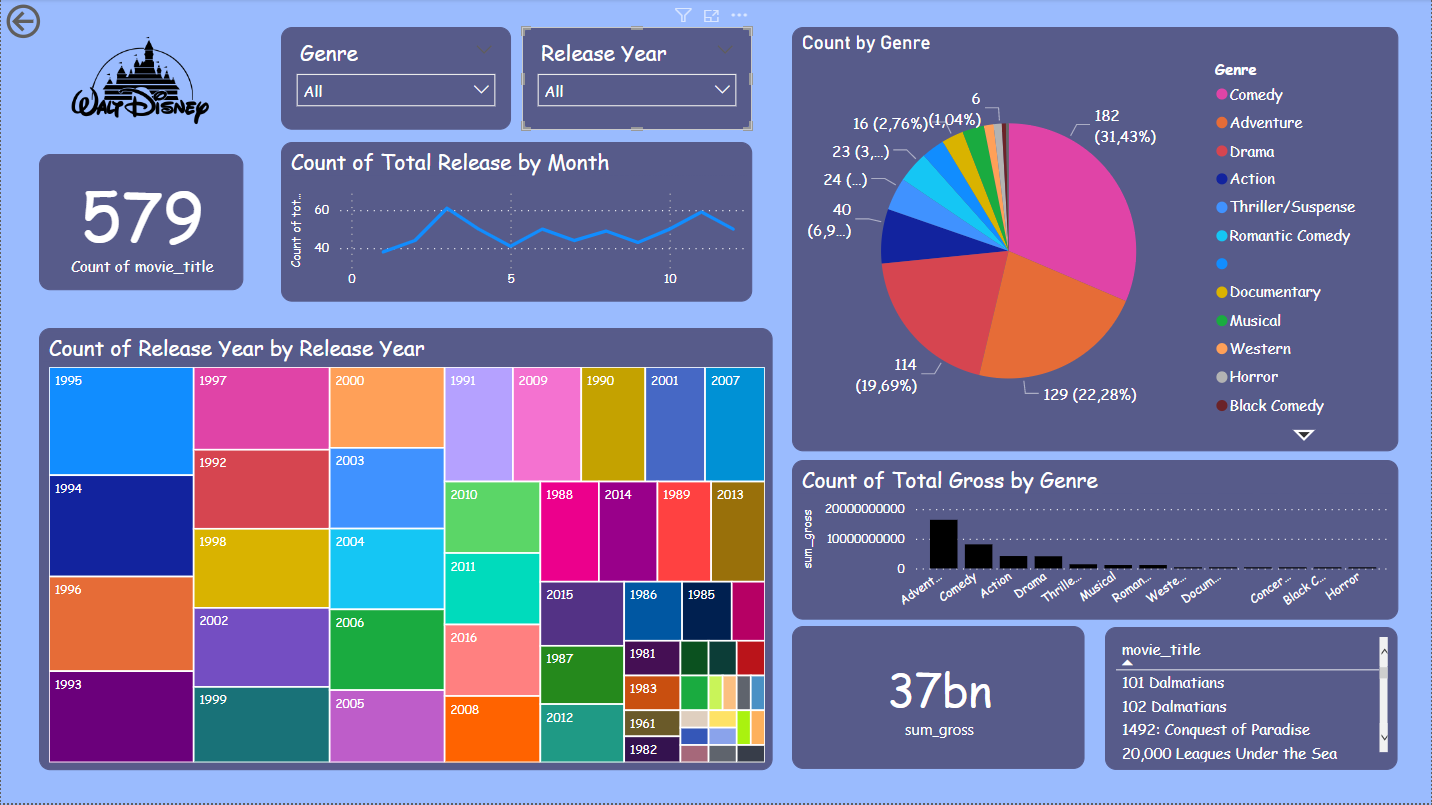

What the dashboard file says about the page in this screenshot:
{"tool":"powerbi","page":{"name":"Disney","canvas":[1280,720],"ordinal":0},"visuals":[{"type":"pieChart","title":"Count by Genre","fields":{"Category":["df.genre"],"Y":["CountNonNull(df.genre)"]},"box":[708.4,25.1,542.7,379.7],"z":0},{"type":"slicer","title":"Genre","fields":{"Values":["df.genre"]},"box":[250.7,25.1,206,92.2],"z":2},{"type":"columnChart","title":"Count of Total Gross by Genre","fields":{"Y":["df.sum"],"Category":["df.genre"]},"box":[708.4,412.8,542.7,143.3],"z":4},{"type":"slicer","fields":{"Values":["df.release_year"]},"box":[466.6,25.1,206,92.2],"z":7},{"type":"image","box":[36.7,27.8,175.5,89.6],"z":9},{"type":"treemap","title":"Count of Release Year by Release Year","fields":{"Group":["df.release_year"],"Values":["CountNonNull(df.release_year)"]},"box":[34,294.6,657.3,395.8],"z":10},{"type":"card","fields":{"Values":["CountNonNull(df.movie_title)"]},"box":[34,138.8,182.7,121.8],"z":11},{"type":"lineChart","title":"Count of Total Release by Month","fields":{"Category":["df.release_month"],"Y":["CountNonNull(df.total_gross)"]},"box":[250.7,128.1,421.8,143.3],"z":12},{"type":"actionButton","box":[0,0,100,40],"z":14},{"type":"card","title":"Count of Total Gross by Genre","fields":{"Values":["df.sum"]},"box":[708.4,561.5,262.4,128.1],"z":15},{"type":"tableEx","title":"Count of Total Gross by Genre","fields":{"Values":["df.movie_title"]},"box":[988.7,562.4,262.4,128.1],"z":16}]}

Visuals, with their boxes in screenshot pixels (x1, y1, x2, y2):
"Count by Genre" pieChart: region(785, 28, 1384, 447)
"Genre" slicer: region(280, 28, 508, 129)
"Count of Total Gross by Genre" columnChart: region(785, 455, 1384, 614)
slicer - df.release_year: region(519, 28, 746, 129)
image: region(44, 31, 238, 130)
"Count of Release Year by Release Year" treemap: region(41, 325, 766, 762)
card - CountNonNull(df.movie_title): region(41, 153, 243, 288)
"Count of Total Release by Month" lineChart: region(280, 141, 746, 299)
actionButton: region(4, 0, 114, 44)
"Count of Total Gross by Genre" card: region(785, 619, 1075, 761)
"Count of Total Gross by Genre" tableEx: region(1095, 620, 1384, 762)
